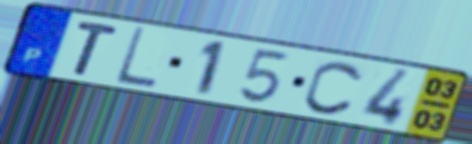1: (193, 39, 230, 98)
4: (358, 66, 410, 127)
5: (238, 46, 292, 105)
C: (301, 58, 367, 117)
L: (112, 25, 159, 91)
T: (71, 19, 122, 79)
